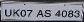character: (4, 8, 12, 17), (36, 9, 44, 18), (13, 8, 20, 17), (67, 9, 74, 18), (26, 9, 33, 17), (44, 9, 51, 17), (54, 9, 61, 17), (61, 9, 67, 18), (74, 9, 80, 18), (20, 9, 26, 17)
